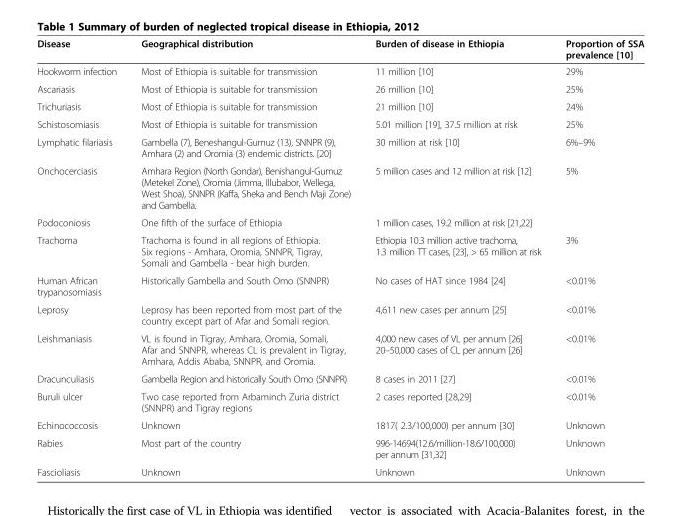table: (36, 37, 643, 477)
table column: (128, 37, 362, 477), (362, 37, 552, 477), (36, 37, 128, 477), (552, 37, 643, 477)
table column header: (36, 37, 643, 62)
table row: (36, 161, 643, 213), (36, 230, 643, 271), (36, 329, 643, 369), (36, 132, 643, 161), (36, 271, 643, 300), (36, 300, 643, 329), (36, 387, 643, 416), (36, 433, 643, 462), (36, 37, 643, 62), (36, 79, 643, 97), (36, 97, 643, 115), (36, 369, 643, 387), (36, 62, 643, 79), (36, 115, 643, 132), (36, 213, 643, 230), (36, 416, 643, 433), (36, 462, 643, 477)
